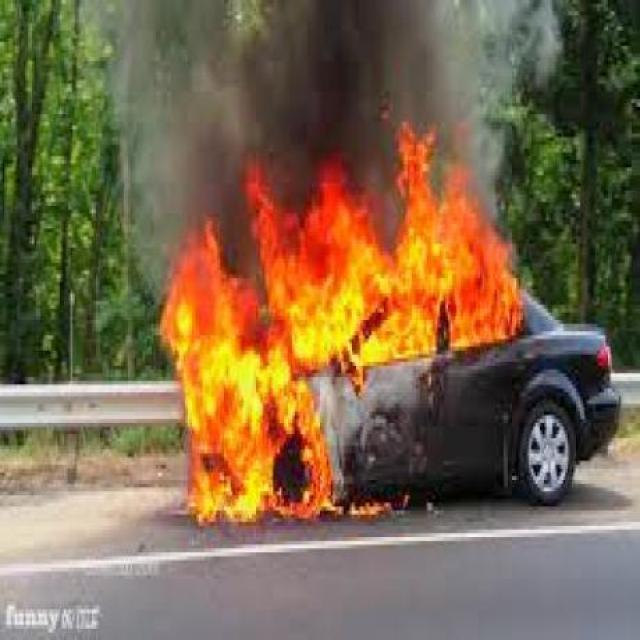Fire: (158, 124, 552, 511)
Smoke: (93, 4, 594, 133), (133, 119, 240, 232), (266, 112, 388, 168)
